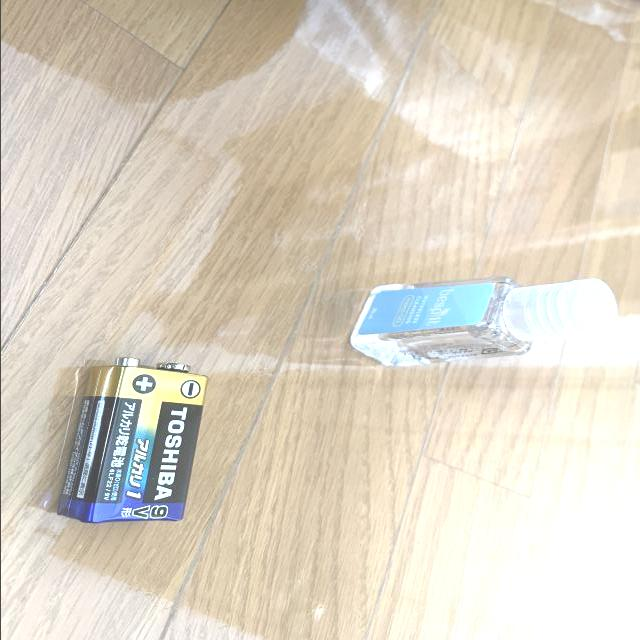9V: (55, 357, 207, 522)
